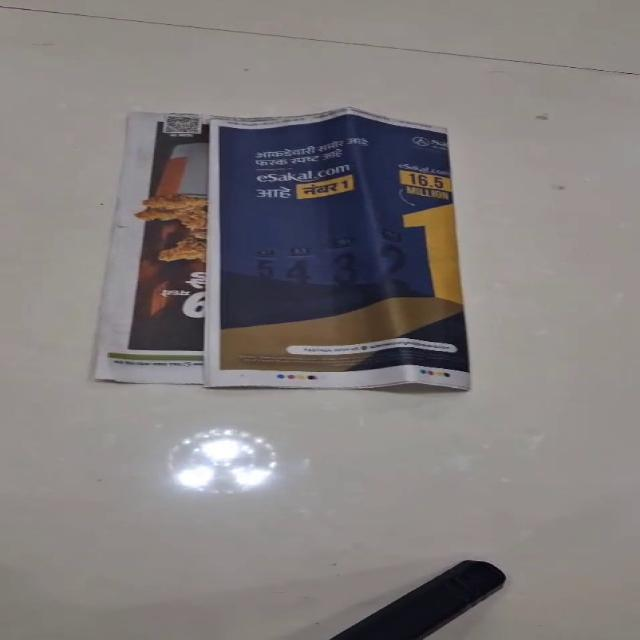paper: (201, 106, 470, 391)
